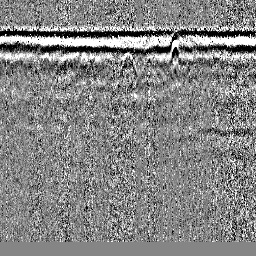cavity: (118, 50, 138, 76)
